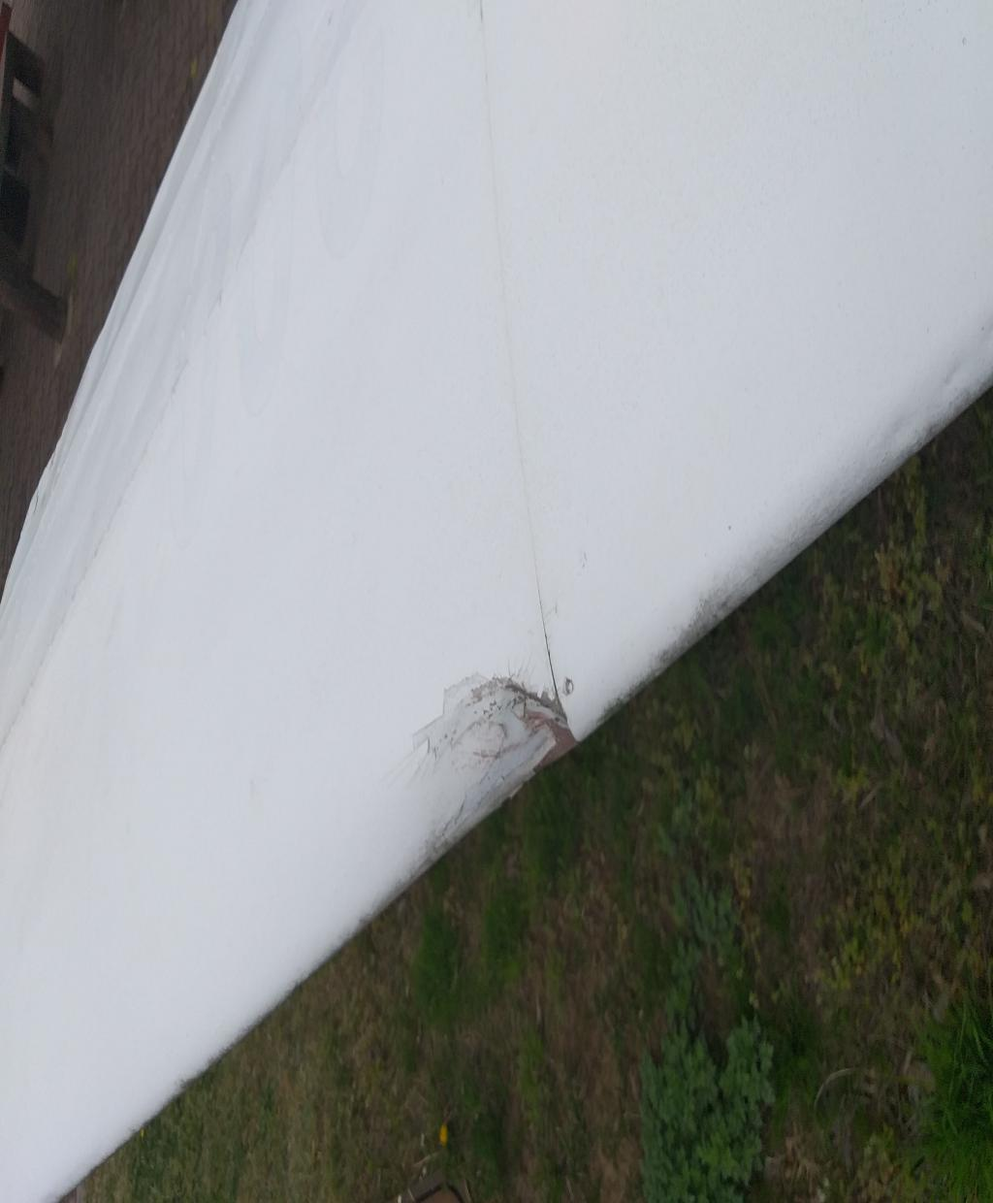corrosion: (167, 947, 261, 1203)
